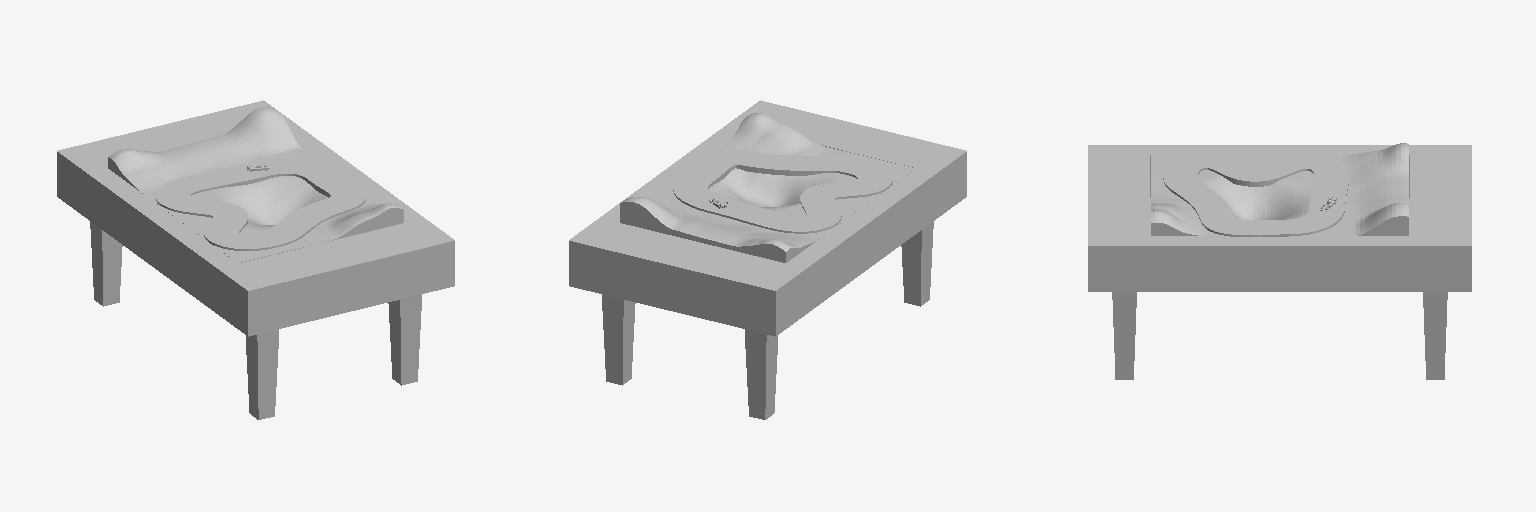
The model's file is NewestTisch8.obj.
The picture shows the model from 3 angles: view 1: azimuth 30°, elevation 25°; view 2: azimuth 150°, elevation 25°; view 3: azimuth 270°, elevation 25°; orthographic projection.
Visible parts, largest first — view 1: Tischplatte_wood_table_001, Landschaft_aerial_grass_rock, off, Bein1_wood_table_001, Bein4_wood_table_001.003, Bein3_wood_table_001.002; view 2: Tischplatte_wood_table_001, Landschaft_aerial_grass_rock, off, Bein2_wood_table_001.001, Bein3_wood_table_001.002, Bein4_wood_table_001.003; view 3: Tischplatte_wood_table_001, Landschaft_aerial_grass_rock, off, Bein1_wood_table_001, Bein2_wood_table_001.001.
Part boxes in pixels (x1,y1,x2,y2): Tischplatte_wood_table_001: (57, 100, 454, 336); Landschaft_aerial_grass_rock: (108, 107, 403, 262); off: (156, 159, 365, 250); Bein1_wood_table_001: (388, 294, 421, 385); Bein4_wood_table_001.003: (246, 329, 278, 419); Bein3_wood_table_001.002: (90, 221, 122, 306); Tischplatte_wood_table_001: (569, 100, 966, 336); Landschaft_aerial_grass_rock: (620, 113, 915, 262); off: (673, 150, 892, 233); Bein2_wood_table_001.001: (602, 294, 635, 385); Bein3_wood_table_001.002: (745, 329, 777, 419); Bein4_wood_table_001.003: (901, 221, 933, 306); Tischplatte_wood_table_001: (1088, 145, 1471, 291); Landschaft_aerial_grass_rock: (1151, 143, 1408, 235); off: (1163, 153, 1348, 236); Bein1_wood_table_001: (1112, 292, 1136, 379); Bein2_wood_table_001.001: (1423, 292, 1447, 379).
Bounding box in the file's own units: 5 × 3.91 × 8.